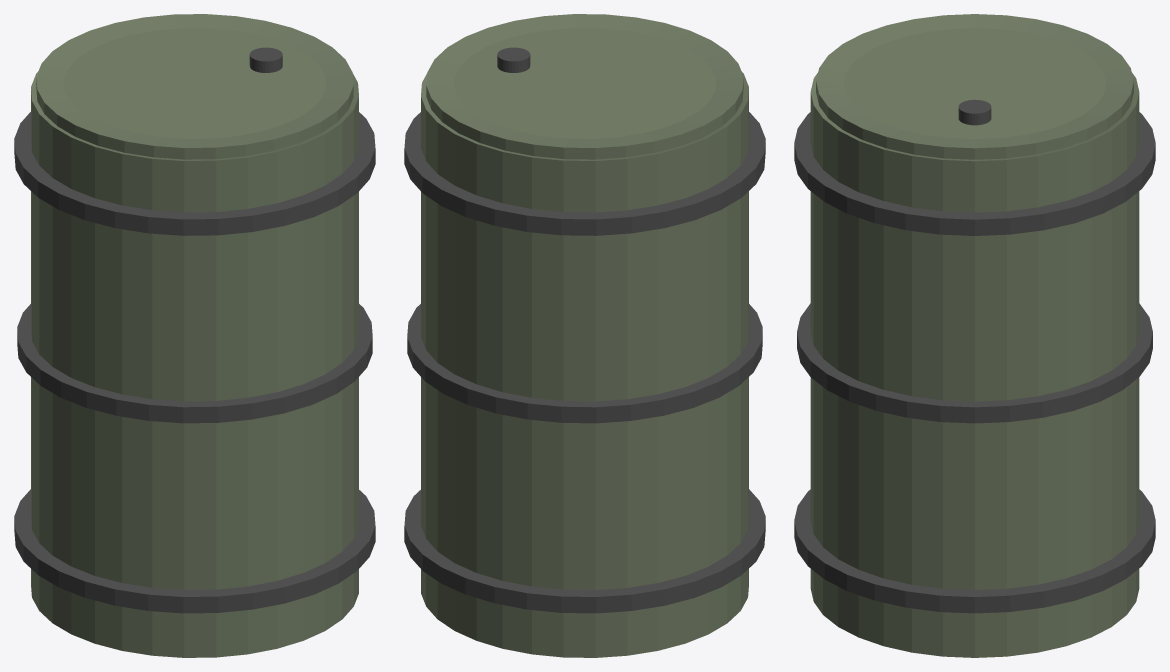
File: barrel-claudesonnet46.glb
3 renders of one model, left to right at view 1: azimuth 30°, elevation 25°; view 2: azimuth 150°, elevation 25°; view 3: azimuth 270°, elevation 25°, orthographic.
Visible parts, largest first — view 1: Barrel; view 2: Barrel; view 3: Barrel.
Boxes of the visible parts, x1,y1,x2,y2 form: Barrel: [14, 14, 375, 657]; Barrel: [404, 14, 765, 657]; Barrel: [794, 14, 1155, 657].
Size of the model in its own units: 0.66 by 1.04 by 0.66.
